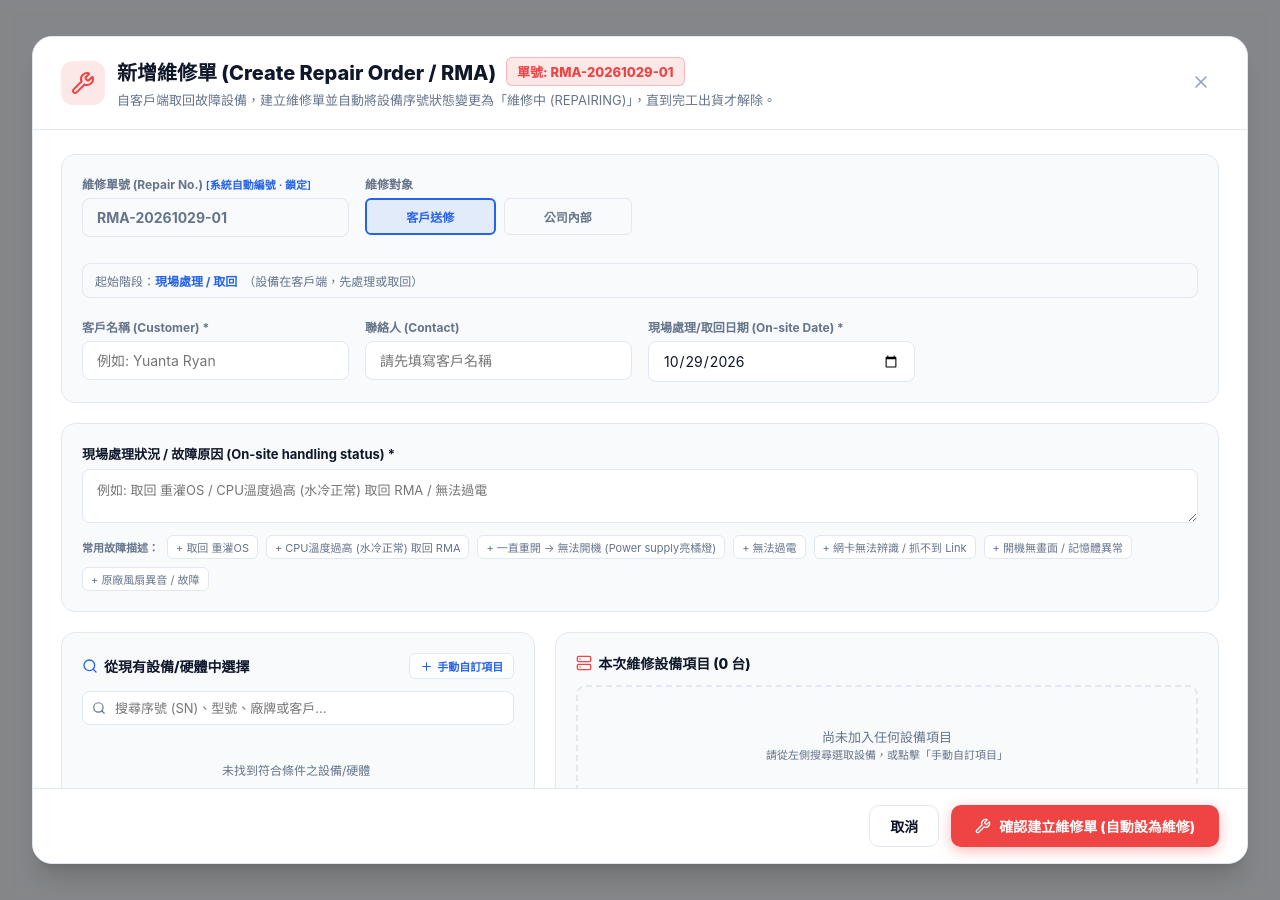
Scenario: 新增維修單：客戶與聯絡人 › 告知這家公司有幾位聯絡人
The image size is (1280, 900).
In the field with placeholder "例如: Yuanta Ryan": (216, 360) [82,341,349,380], type "元大Yuanta"
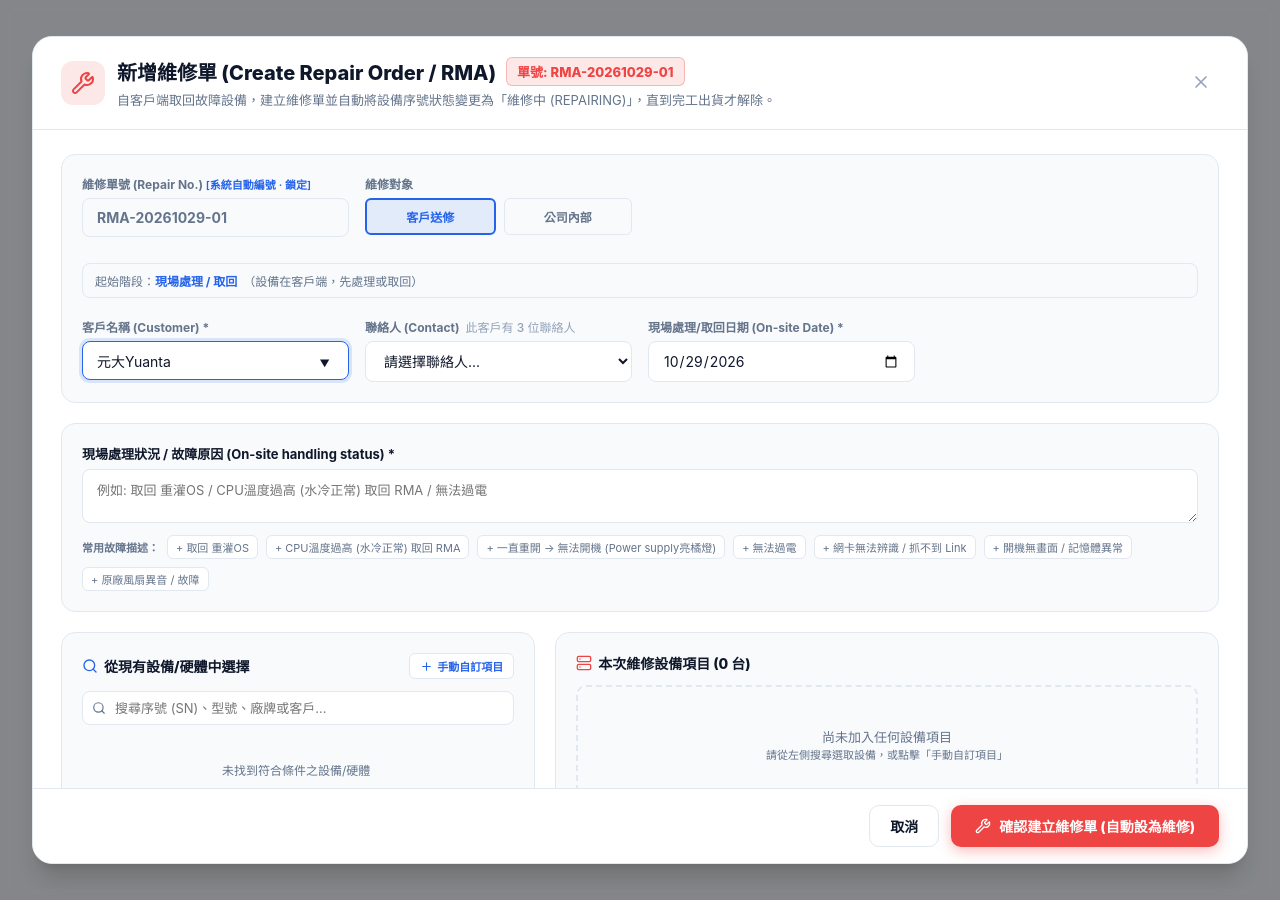
Now the text "此客戶有 3 位聯絡人" is shown, box [466,320,575,335]
